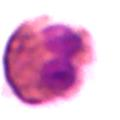monocyte: (4, 16, 99, 106)
